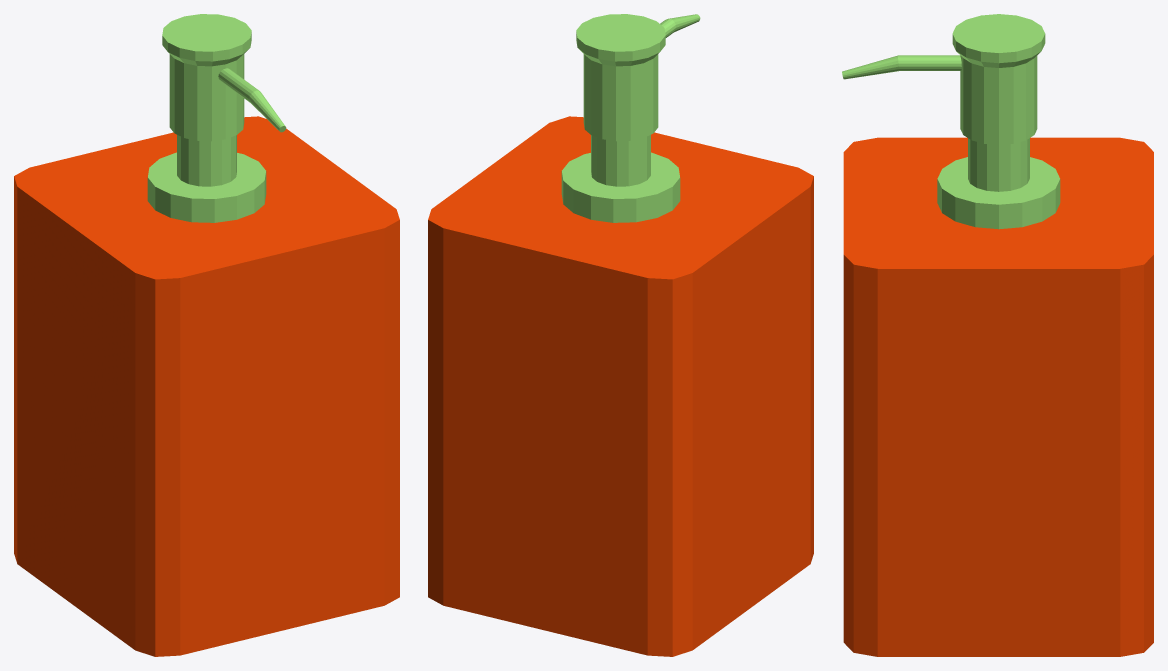
The model's file is Soap_01.fbx.
3 renders of one model, left to right at view 1: azimuth 30°, elevation 25°; view 2: azimuth 150°, elevation 25°; view 3: azimuth 270°, elevation 25°, orthographic. The views are drawn at different scales.
Visible parts, largest first — view 1: Soap_01; view 2: Soap_01; view 3: Soap_01.
Boxes of the visible parts, x1,y1,x2,y2 form: Soap_01: [14, 14, 399, 656]; Soap_01: [428, 14, 813, 656]; Soap_01: [842, 14, 1153, 656].
Size of the model in its own units: 12.3 by 24.4 by 12.36.
